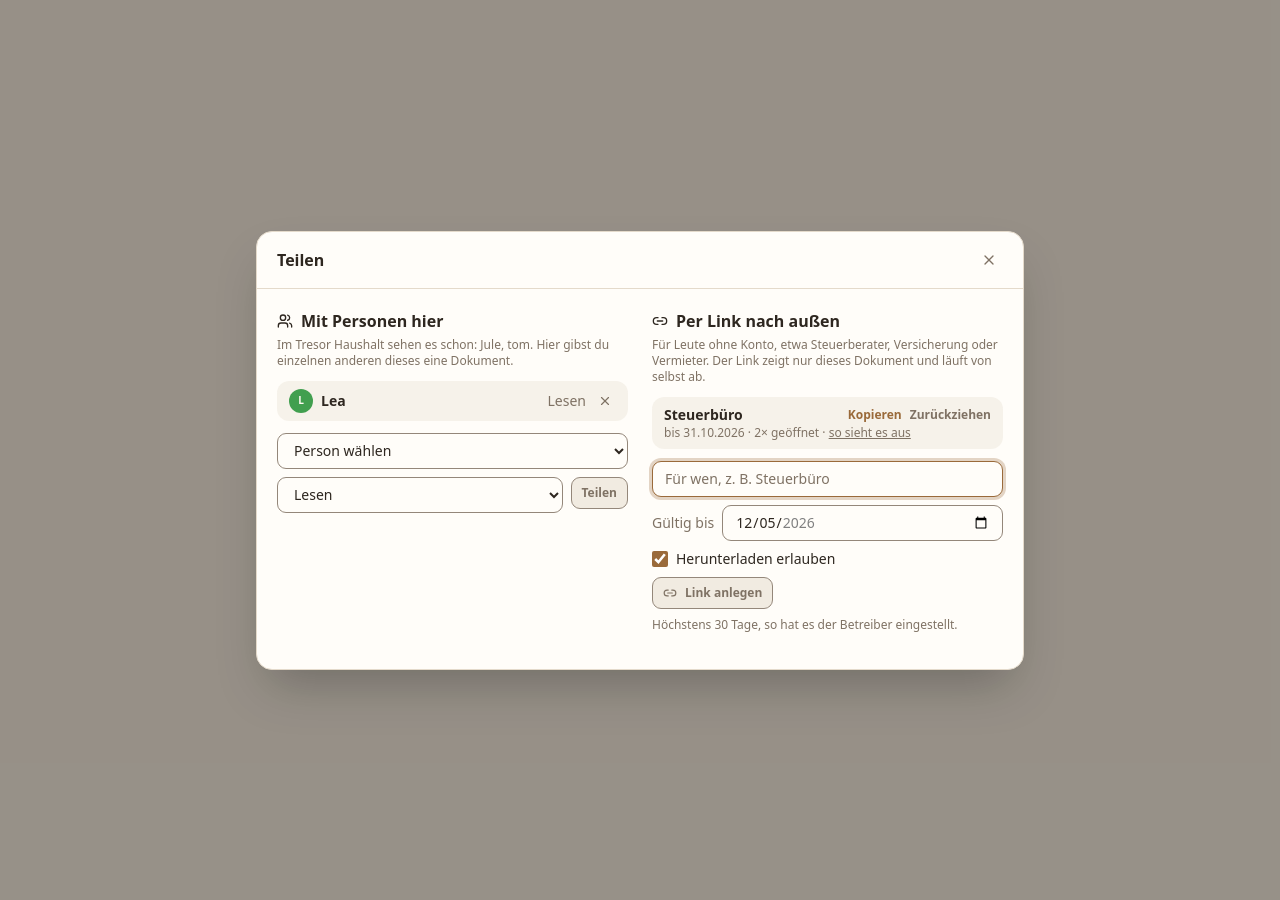
Test: links to the outside › lists the links with their end and how often they were opened, and revokes one
Click the button "Zurückziehen": (950, 414) [910,406,991,422]
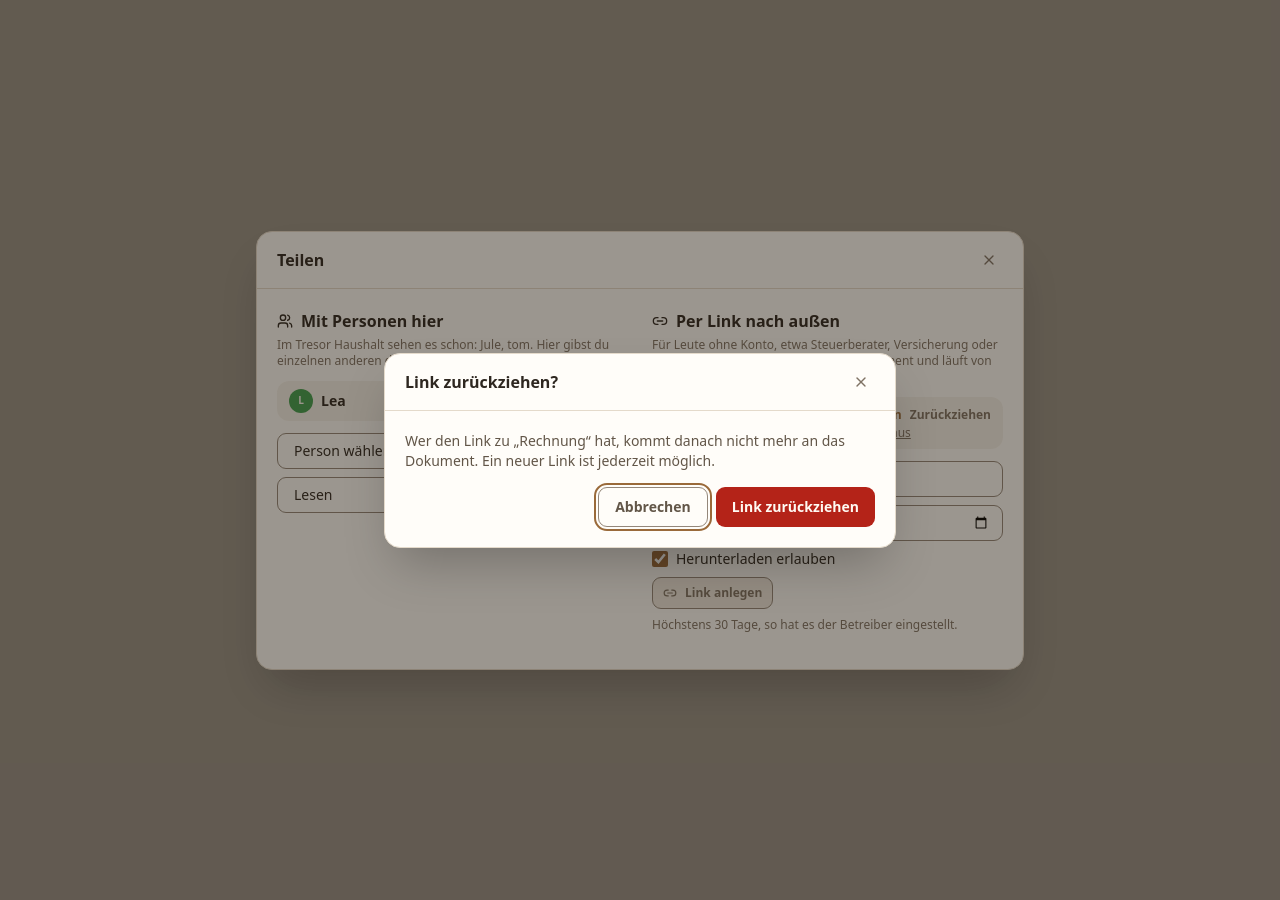
expect the dialog is shown: met, box [384,352,896,548]
expect the button "Link zurückziehen" is shown: met
Click the button "Link zurückziehen": (795, 506) [716,486,875,526]
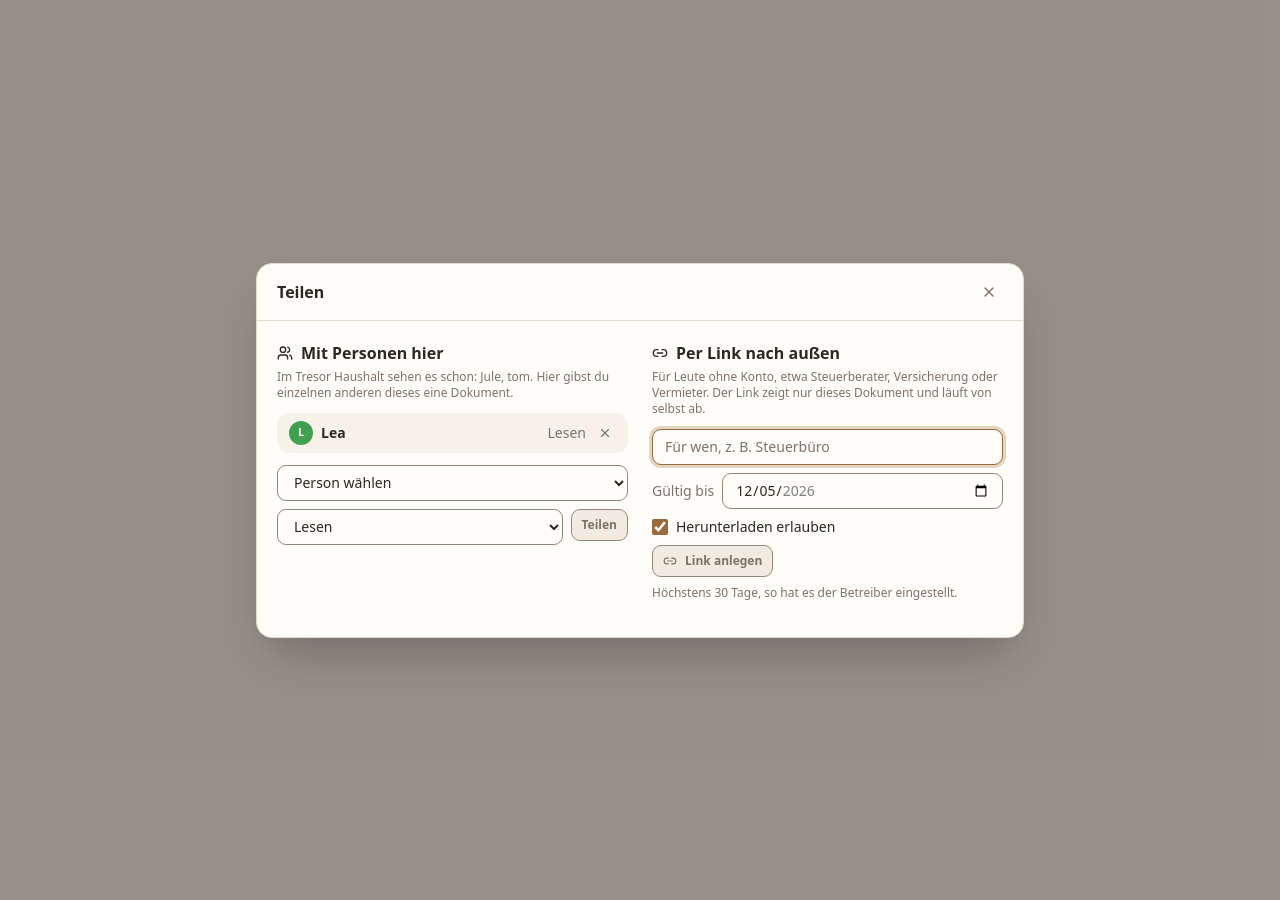
expect the text "Steuerbüro" is gone: met
